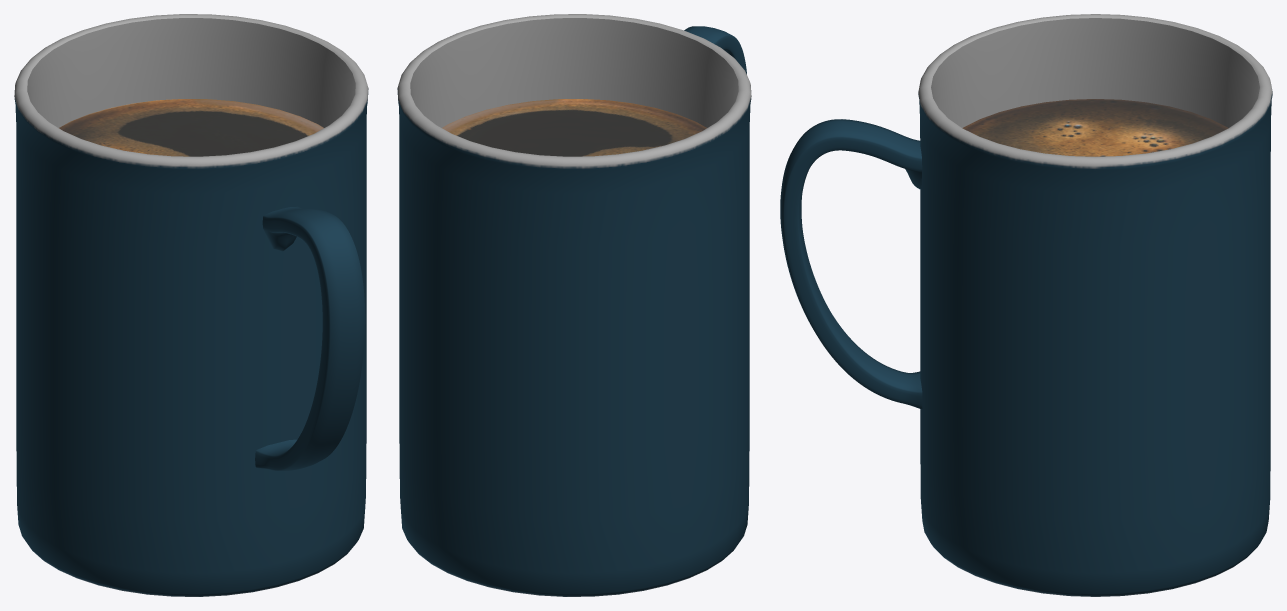
The model's file is noalpha.glb.
3 renders of one model, left to right at view 1: azimuth 30°, elevation 25°; view 2: azimuth 150°, elevation 25°; view 3: azimuth 270°, elevation 25°, orthographic.
Visible parts, largest first — view 1: CoffeeMug; view 2: CoffeeMug; view 3: CoffeeMug.
Boxes of the visible parts, x1,y1,x2,y2 form: CoffeeMug: [14, 14, 368, 596]; CoffeeMug: [397, 14, 751, 596]; CoffeeMug: [780, 14, 1272, 596].
Bounding box in the file's own units: 9.3 × 12.73 × 12.92.
Materials: 1 (1 with a texture image).
